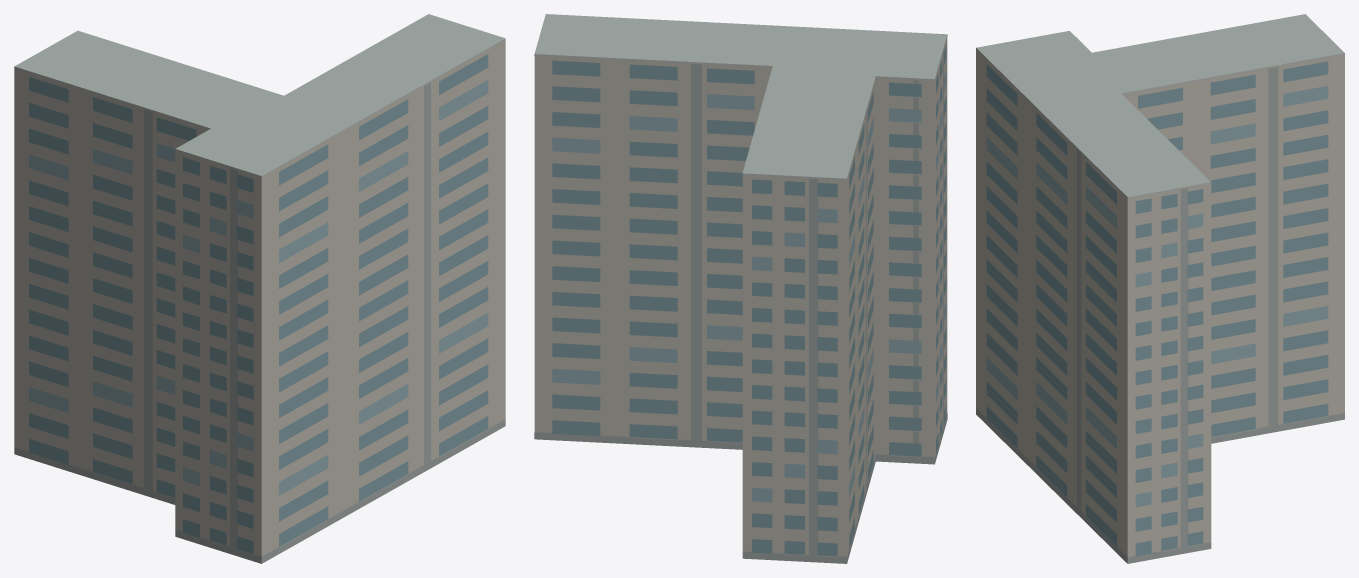
Rendered from residential-12111974-db74-446e-baa7-ac094e65f15a.glb.
3 views of the same model, side by side, from view 1: azimuth 30°, elevation 25°; view 2: azimuth 150°, elevation 25°; view 3: azimuth 270°, elevation 25° (orthographic). The views are drawn at different scales.
Parts seen in each view (by area): view 1: residential-12111974-db74-446e-baa7-ac094e65f15a.tmp; view 2: residential-12111974-db74-446e-baa7-ac094e65f15a.tmp; view 3: residential-12111974-db74-446e-baa7-ac094e65f15a.tmp.
Part boxes in pixels (bbox=[...]): residential-12111974-db74-446e-baa7-ac094e65f15a.tmp: bbox=[14, 14, 505, 563]; residential-12111974-db74-446e-baa7-ac094e65f15a.tmp: bbox=[534, 14, 947, 563]; residential-12111974-db74-446e-baa7-ac094e65f15a.tmp: bbox=[976, 14, 1344, 563].
Bounding box in the file's own units: 48.25 × 45 × 41.03.
